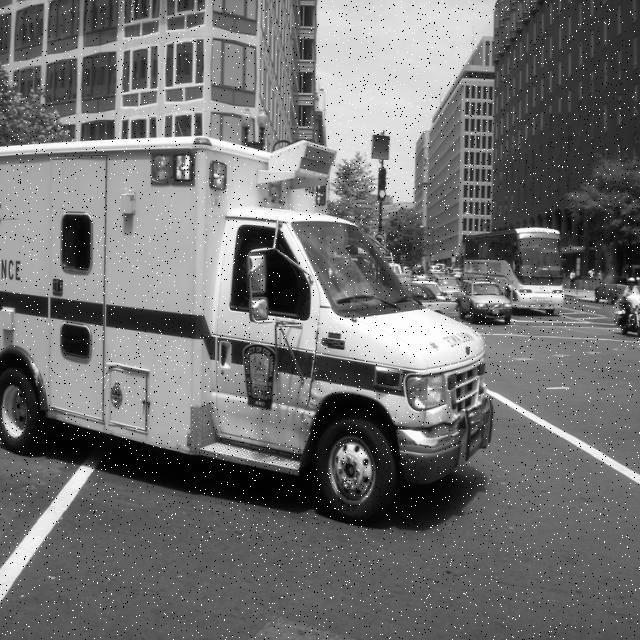Ambulance: (0, 137, 496, 528)
